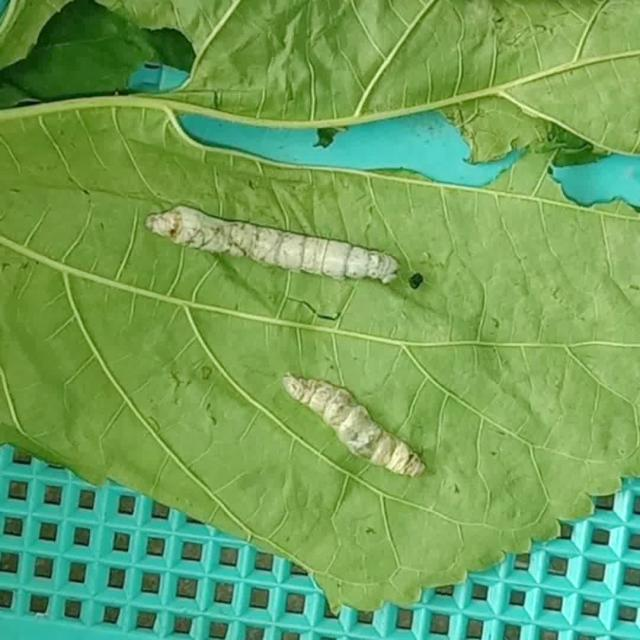Grasserie: (134, 177, 422, 317), (264, 354, 485, 510)
